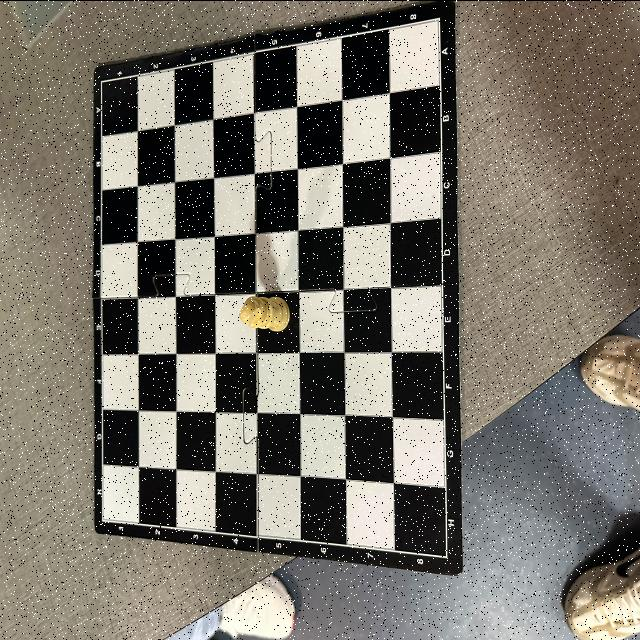White-King: (240, 296, 290, 332)
